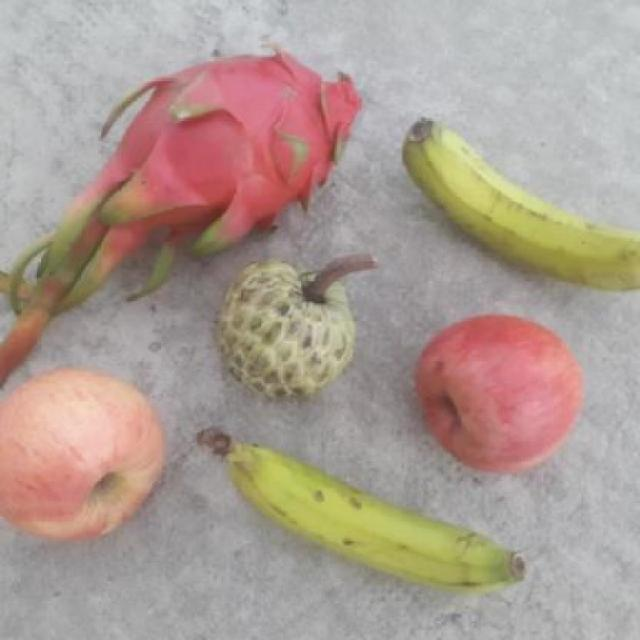apple: (2, 356, 170, 552), (408, 314, 590, 477)
banana: (196, 425, 530, 604), (400, 106, 640, 291)
dragon fruit: (110, 47, 364, 244)
sugar apple: (213, 258, 362, 408)
